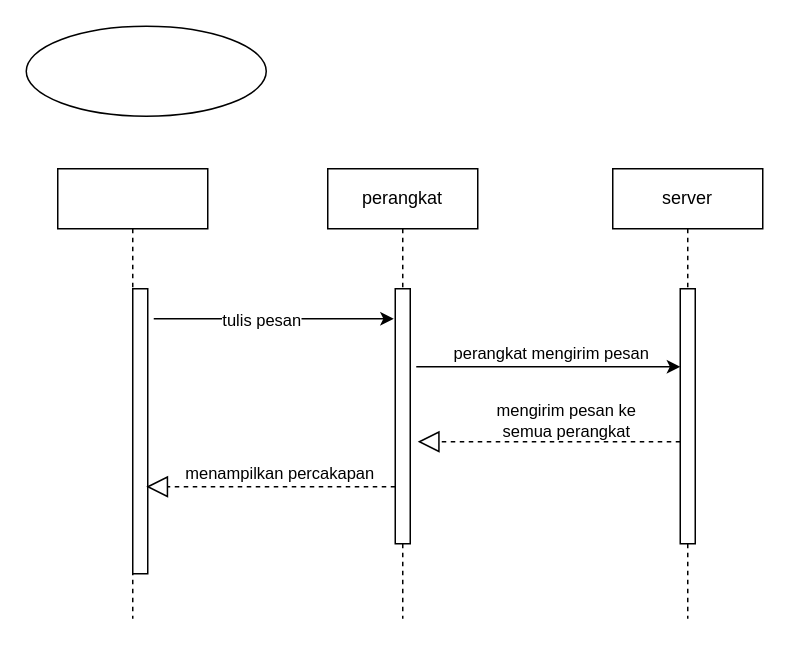
Image size: 789x645. Some labels were removed from this diagram. Each missing label, with the centre of its shape:
"FITUR KIRIM PESAN" goes at (x=145, y=70).
"user" goes at (x=132, y=393).
